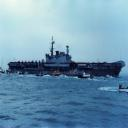Portanaves: (8, 37, 126, 82)
